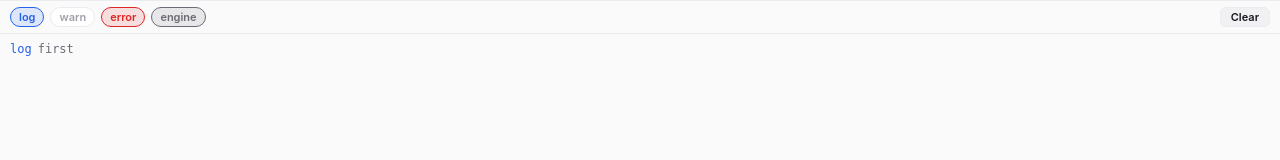
it: ConsolePane › Clear empties the visible list
Click the button "Clear": (1245, 17) [1220, 7, 1270, 27]
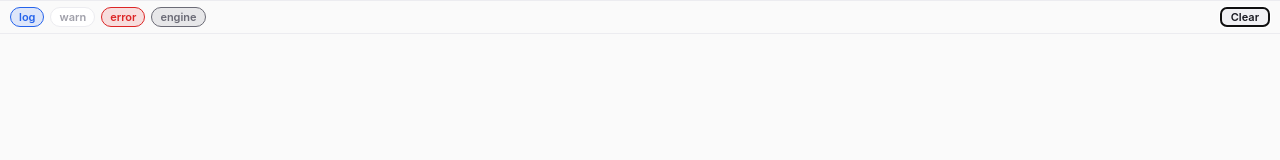
Now the text "first" is gone
